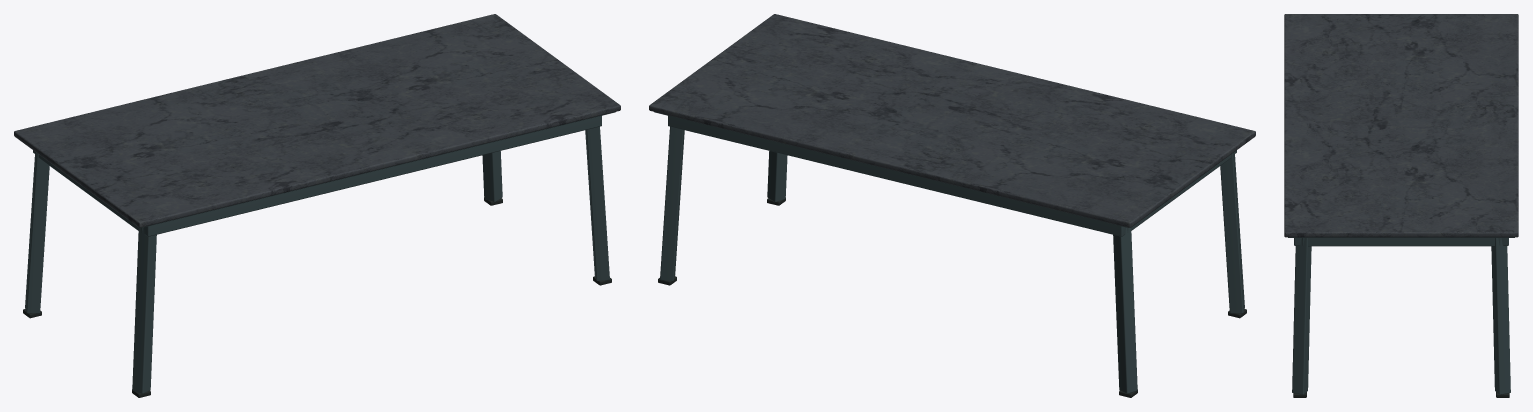
The model's file is outdoor-ceramic-dining-table.glb.
3 renders of one model, left to right at view 1: azimuth 30°, elevation 25°; view 2: azimuth 150°, elevation 25°; view 3: azimuth 270°, elevation 25°, orthographic. The views are drawn at different scales.
Visible parts, largest first — view 1: outdoor-ceramic-dining-table authored assembly; view 2: outdoor-ceramic-dining-table authored assembly; view 3: outdoor-ceramic-dining-table authored assembly.
Boxes of the visible parts, box(x1,y1,x2,y2) form: outdoor-ceramic-dining-table authored assembly: box(14, 14, 620, 397); outdoor-ceramic-dining-table authored assembly: box(649, 14, 1255, 397); outdoor-ceramic-dining-table authored assembly: box(1284, 14, 1518, 397).
Size of the model in its own units: 2.1 by 0.75 by 0.95.
Materials: 4 (1 with a texture image).
